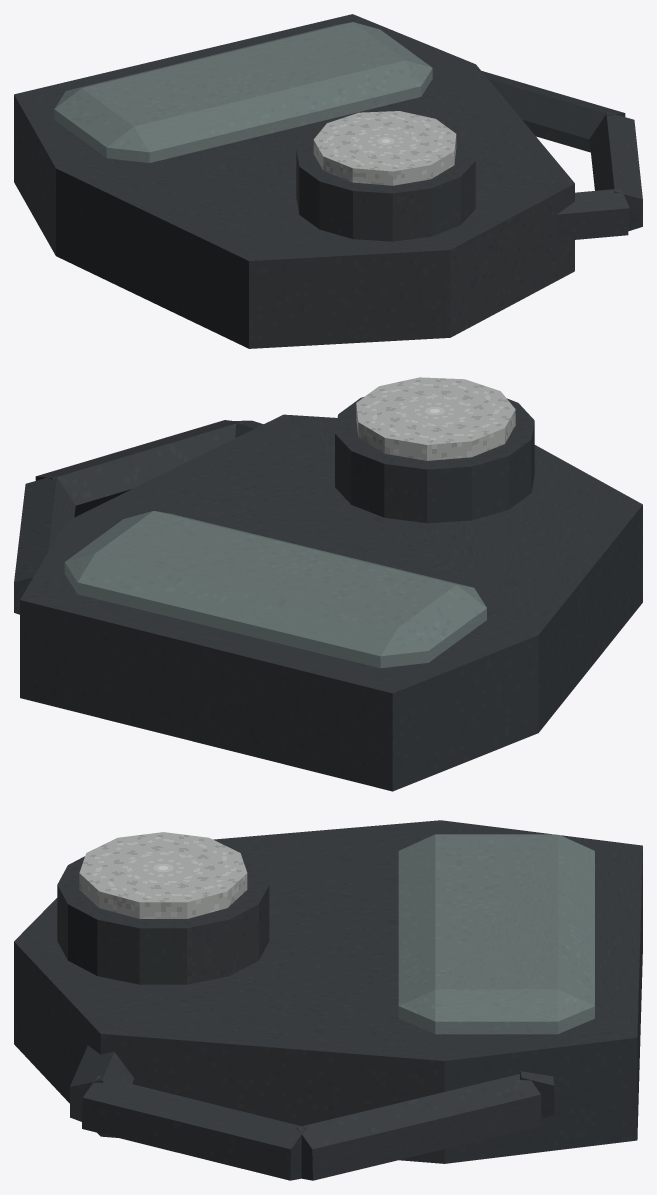
The model's file is military_papr_mask.glb.
3 views of the same model, one above another, from view 1: azimuth 30°, elevation 25°; view 2: azimuth 150°, elevation 25°; view 3: azimuth 270°, elevation 25° (orthographic). The views are drawn at different scales.
Visible parts, largest first — view 1: block_rubber face seal, block_panoramic lens, block_round valve housing, block_valve cover, block_breathing hose 2, block_breathing hose 1, block_breathing hose 0; view 2: block_rubber face seal, block_panoramic lens, block_round valve housing, block_valve cover, block_breathing hose 1, block_breathing hose 2; view 3: block_rubber face seal, block_panoramic lens, block_round valve housing, block_breathing hose 2, block_breathing hose 1, block_valve cover, block_breathing hose 0, block_breathing hose 3.
Boxes of the visible parts, x1,y1,x2,y2 form: block_rubber face seal: (14,14,574,348); block_panoramic lens: (54,22,432,162); block_round valve housing: (296,128,475,241); block_valve cover: (313,111,456,185); block_breathing hose 2: (482,71,625,152); block_breathing hose 1: (589,112,642,231); block_breathing hose 0: (556,188,629,241); block_rubber face seal: (20,414,642,791); block_panoramic lens: (64,511,486,668); block_round valve housing: (335,397,534,523); block_valve cover: (356,377,515,460); block_breathing hose 1: (35,420,241,517); block_breathing hose 2: (14,475,75,614); block_rubber face seal: (14,820,642,1163); block_panoramic lens: (398,834,594,1034); block_round valve housing: (57,856,269,984); block_breathing hose 2: (297,1072,541,1180); block_breathing hose 1: (82,1075,306,1180); block_valve cover: (79,832,247,918); block_breathing hose 0: (69,1045,134,1121); block_breathing hose 3: (519,1071,554,1118).
Bounding box in the file's own units: 0.27 × 0.0754 × 0.2442.
2 materials, 2 textured.
